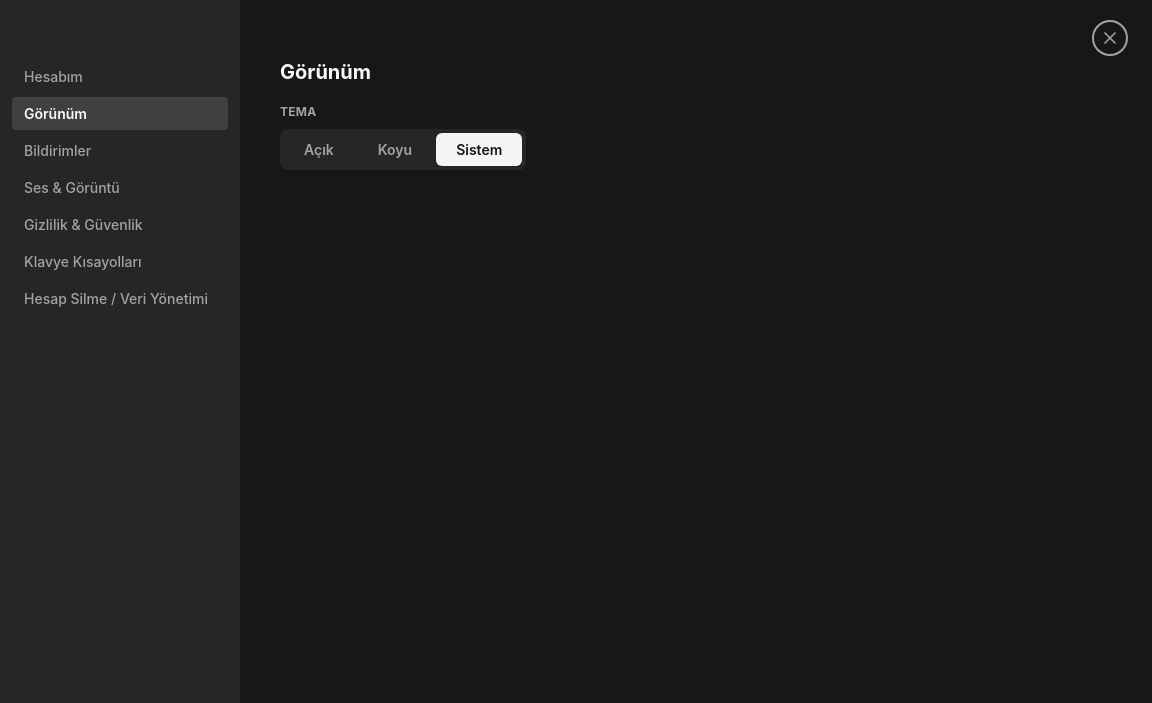
Test: UserSettingsModal › Hesabım › prefills the username and email fields with the current values
Click the button "Hesabım". click: click(120, 76)
box: [12,60,228,93]
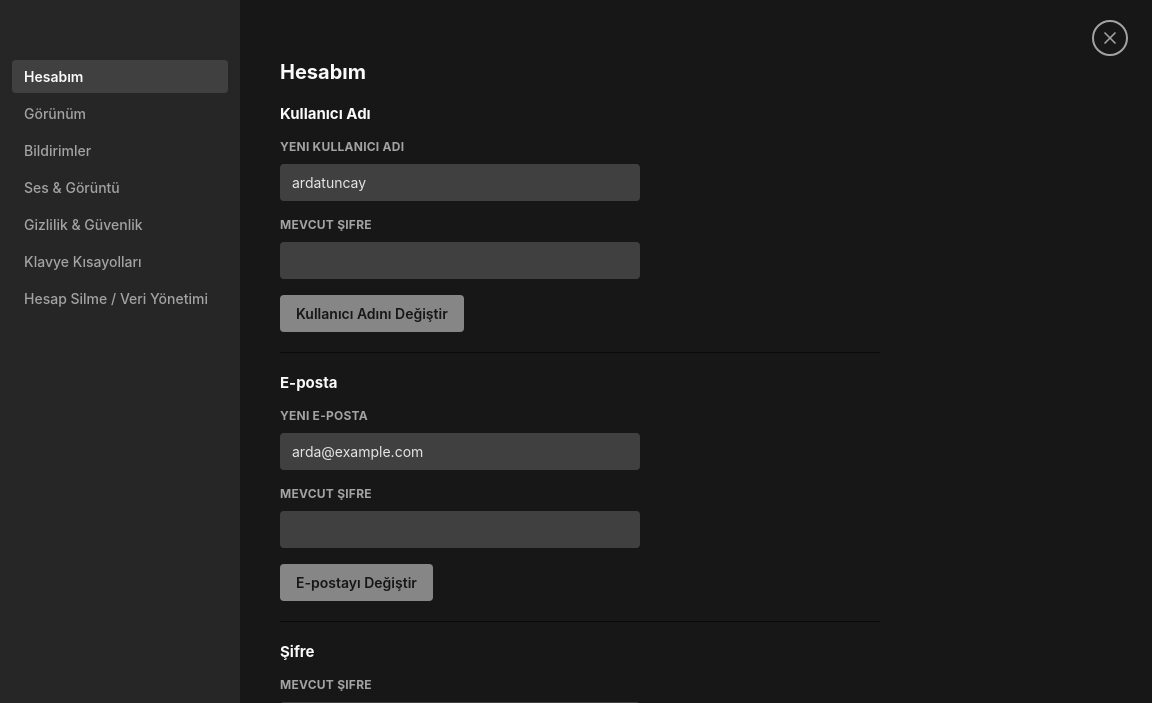
Expected: the field labelled "Yeni kullanıcı adı" holds "ardatuncay", [280,164,640,201]
Expected: the field labelled "Yeni e-posta" holds "arda@example.com", [280,433,640,470]
